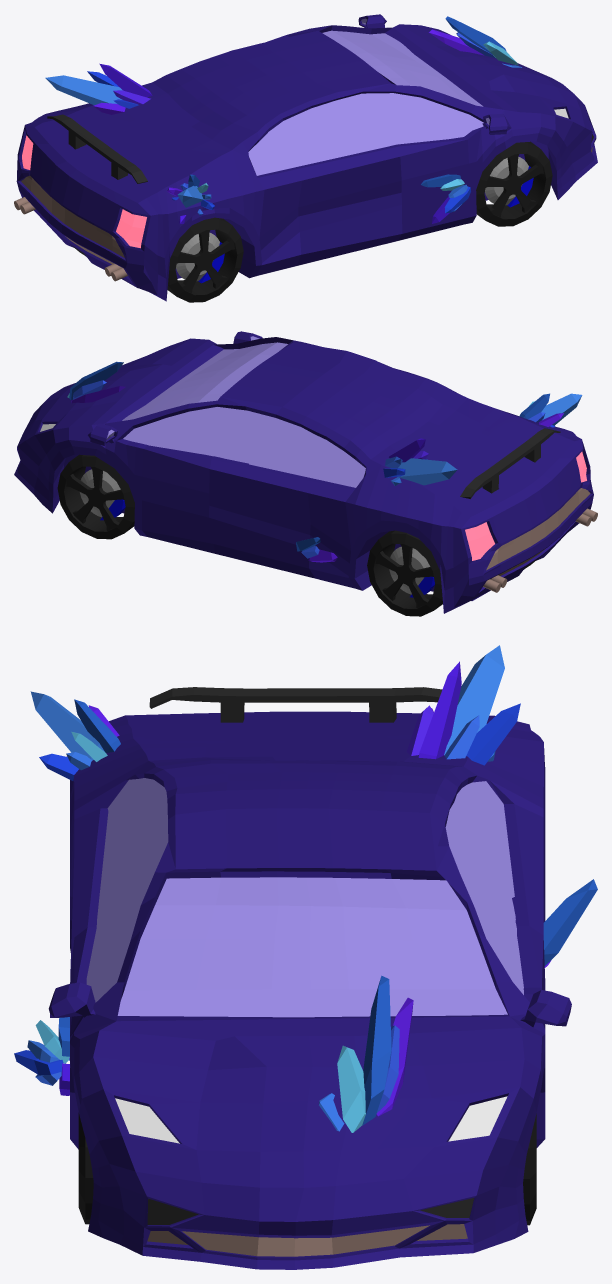
File: FastCarIceSkin.fbx
3 views of the same model, one above another, from view 1: azimuth 30°, elevation 25°; view 2: azimuth 150°, elevation 25°; view 3: azimuth 270°, elevation 25° (orthographic). The views are drawn at different scales.
Parts seen in each view (by area): view 1: Cube.004, BR, FR, CarIce1, CarIce5, CarIce3, CarIce2; view 2: Cube.004, BL, FL, CarIce1, CarIce5, CarIce2, CarIce4; view 3: Cube.004, CarIce1, CarIce5, CarIce2, CarIce3, CarIce4, FR, FL.
Part boxes in pixels (x1,y1,x2,y2): Cube.004: [14, 14, 597, 301]; BR: [167, 217, 243, 302]; FR: [476, 141, 552, 226]; CarIce1: [45, 63, 152, 114]; CarIce5: [429, 16, 521, 67]; CarIce3: [421, 174, 470, 223]; CarIce2: [167, 174, 214, 223]; Cube.004: [14, 331, 597, 613]; BL: [367, 530, 442, 616]; FL: [57, 454, 134, 539]; CarIce1: [383, 438, 457, 485]; CarIce5: [67, 361, 125, 403]; CarIce2: [519, 393, 582, 427]; CarIce4: [296, 537, 337, 562]; Cube.004: [48, 687, 571, 1269]; CarIce1: [406, 645, 520, 765]; CarIce5: [319, 975, 413, 1132]; CarIce2: [30, 691, 120, 780]; CarIce3: [14, 1017, 69, 1095]; CarIce4: [543, 879, 597, 967]; FR: [78, 1113, 93, 1224]; FL: [523, 1113, 536, 1225].
Size of the model in its own units: 226 by 410 by 124.
